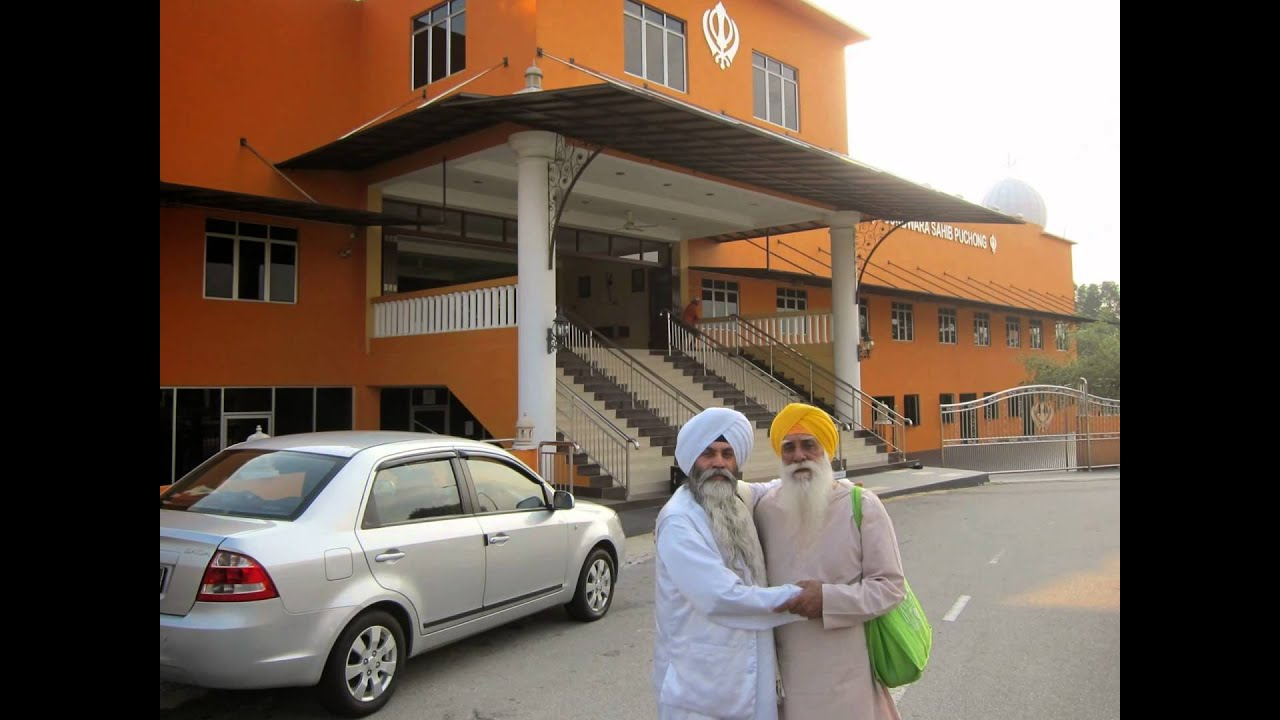Gurdwara: (162, 6, 1081, 355)
